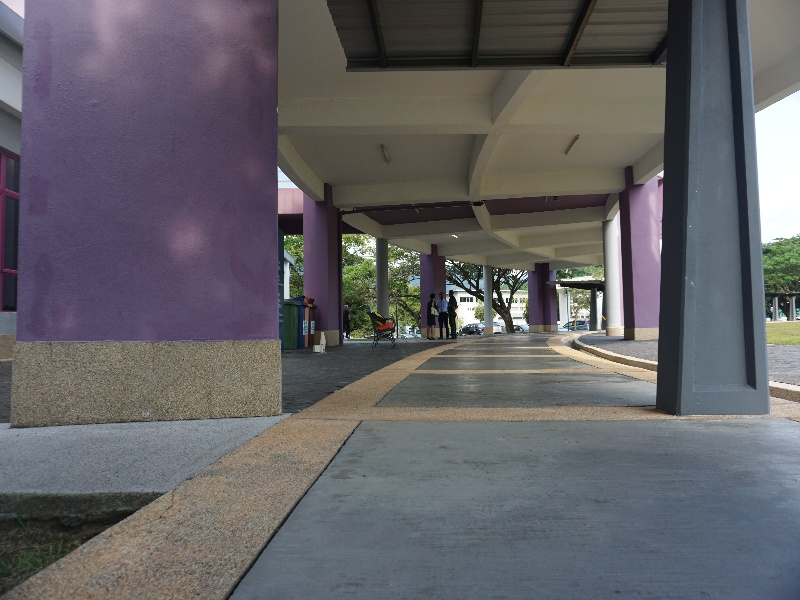Block D Pillar 1: (5, 2, 800, 459)
pillar: (5, 1, 289, 430), (658, 1, 785, 424), (294, 179, 348, 344), (602, 211, 628, 349), (524, 258, 561, 338), (369, 233, 393, 337), (480, 263, 499, 349)
